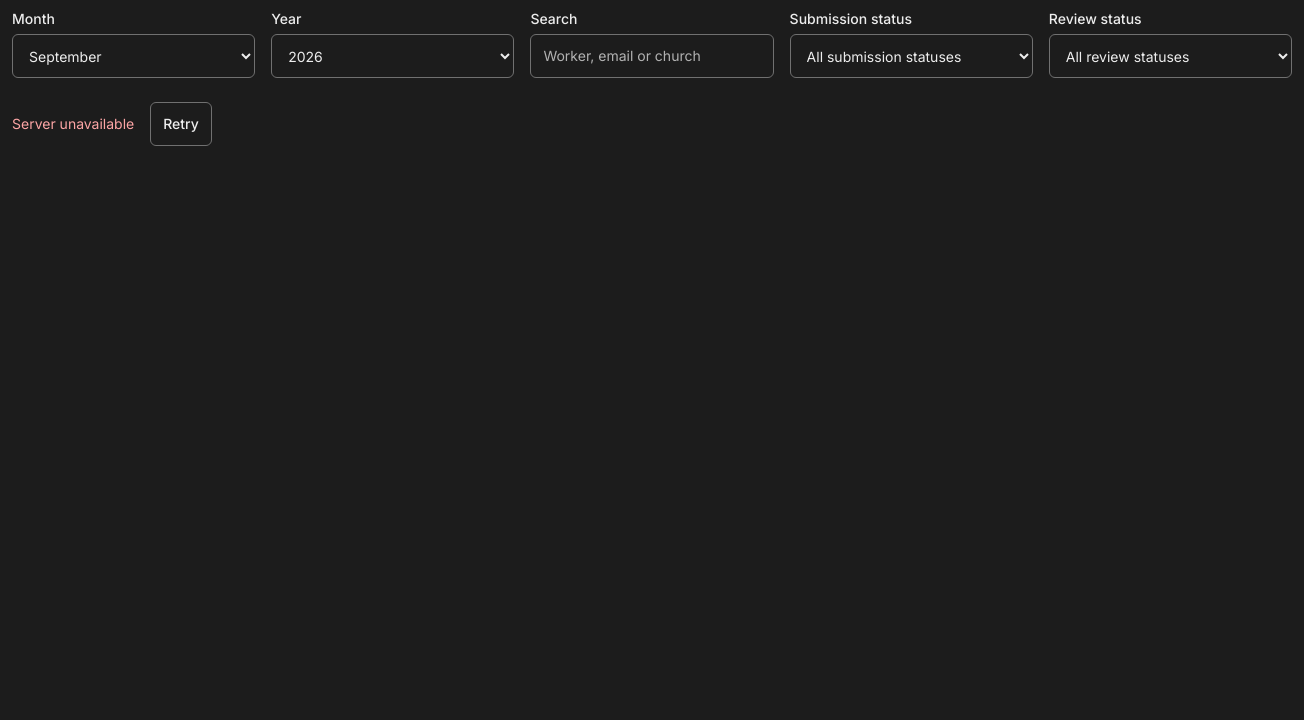
Test: tracker › shows an error with Retry
This screenshot has width=1304, height=720.
Expected: the message reads "Server unavailable", x1=12 y1=115 x2=134 y2=132
Click the button "Retry" at (181, 124), box x1=150 y1=102 x2=212 y2=146
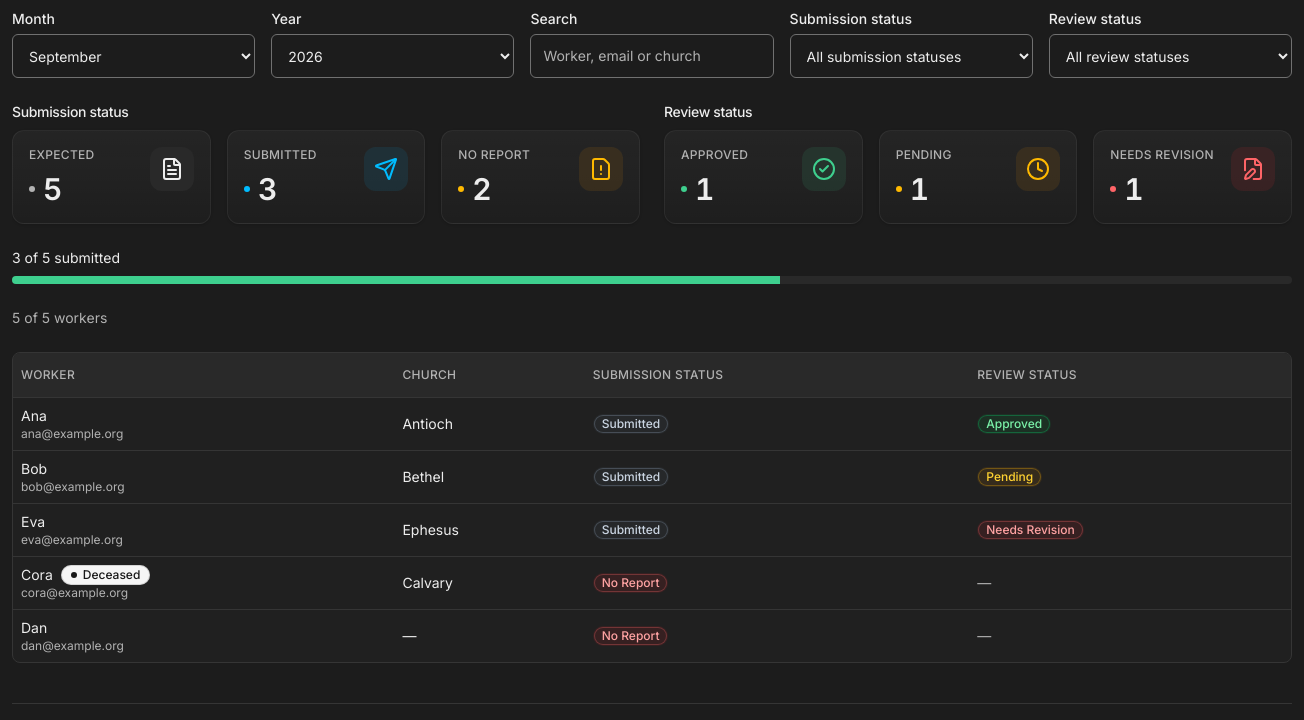
Expected: the text "Ana" is shown, x1=21 y1=406 x2=47 y2=424
